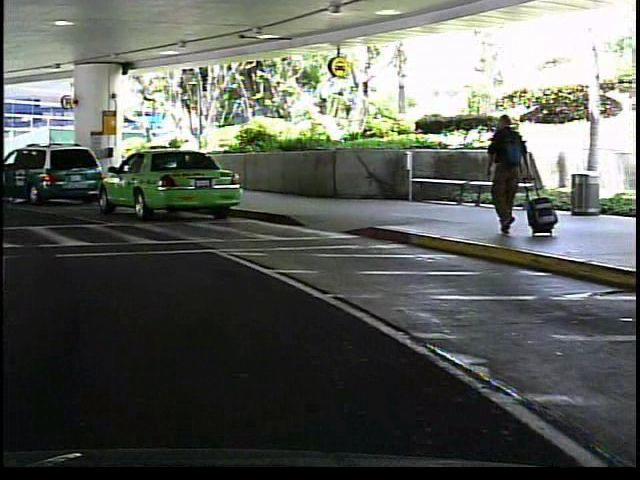person: (476, 110, 535, 245)
